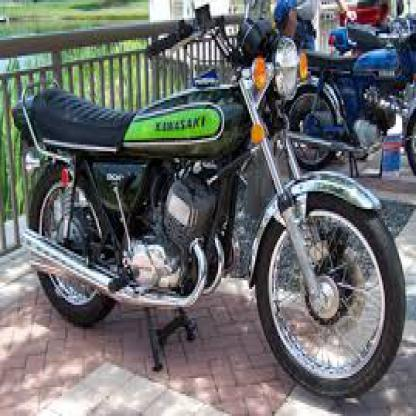Motorcycle: (13, 10, 403, 399)
